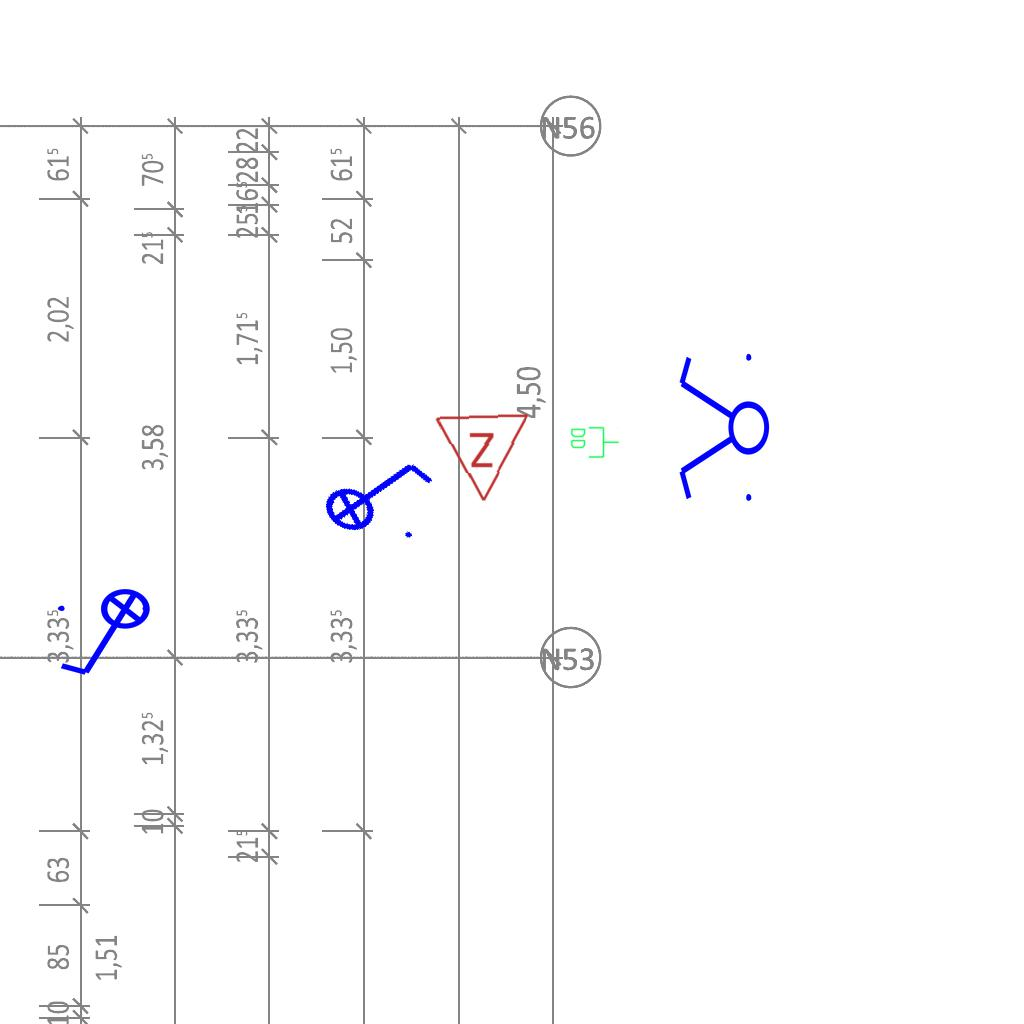Ausschalter_beleuchtet: (305, 425, 447, 559), (52, 587, 164, 683)
Datenanschluss_zweifach: (569, 425, 620, 459)
Serienschalter: (675, 345, 771, 513)
Zimmersignalleuchte: (433, 406, 535, 510)
